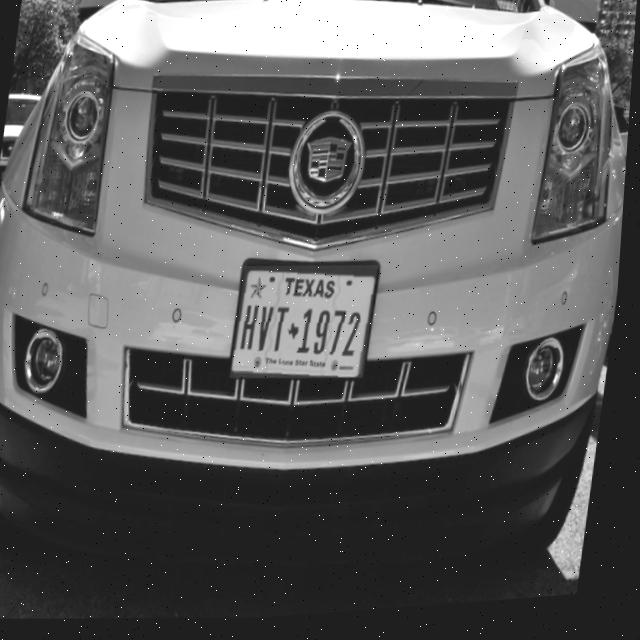LicensePlate: (234, 262, 382, 391)
